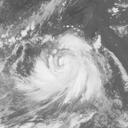cyclone: (25, 29, 106, 109)
